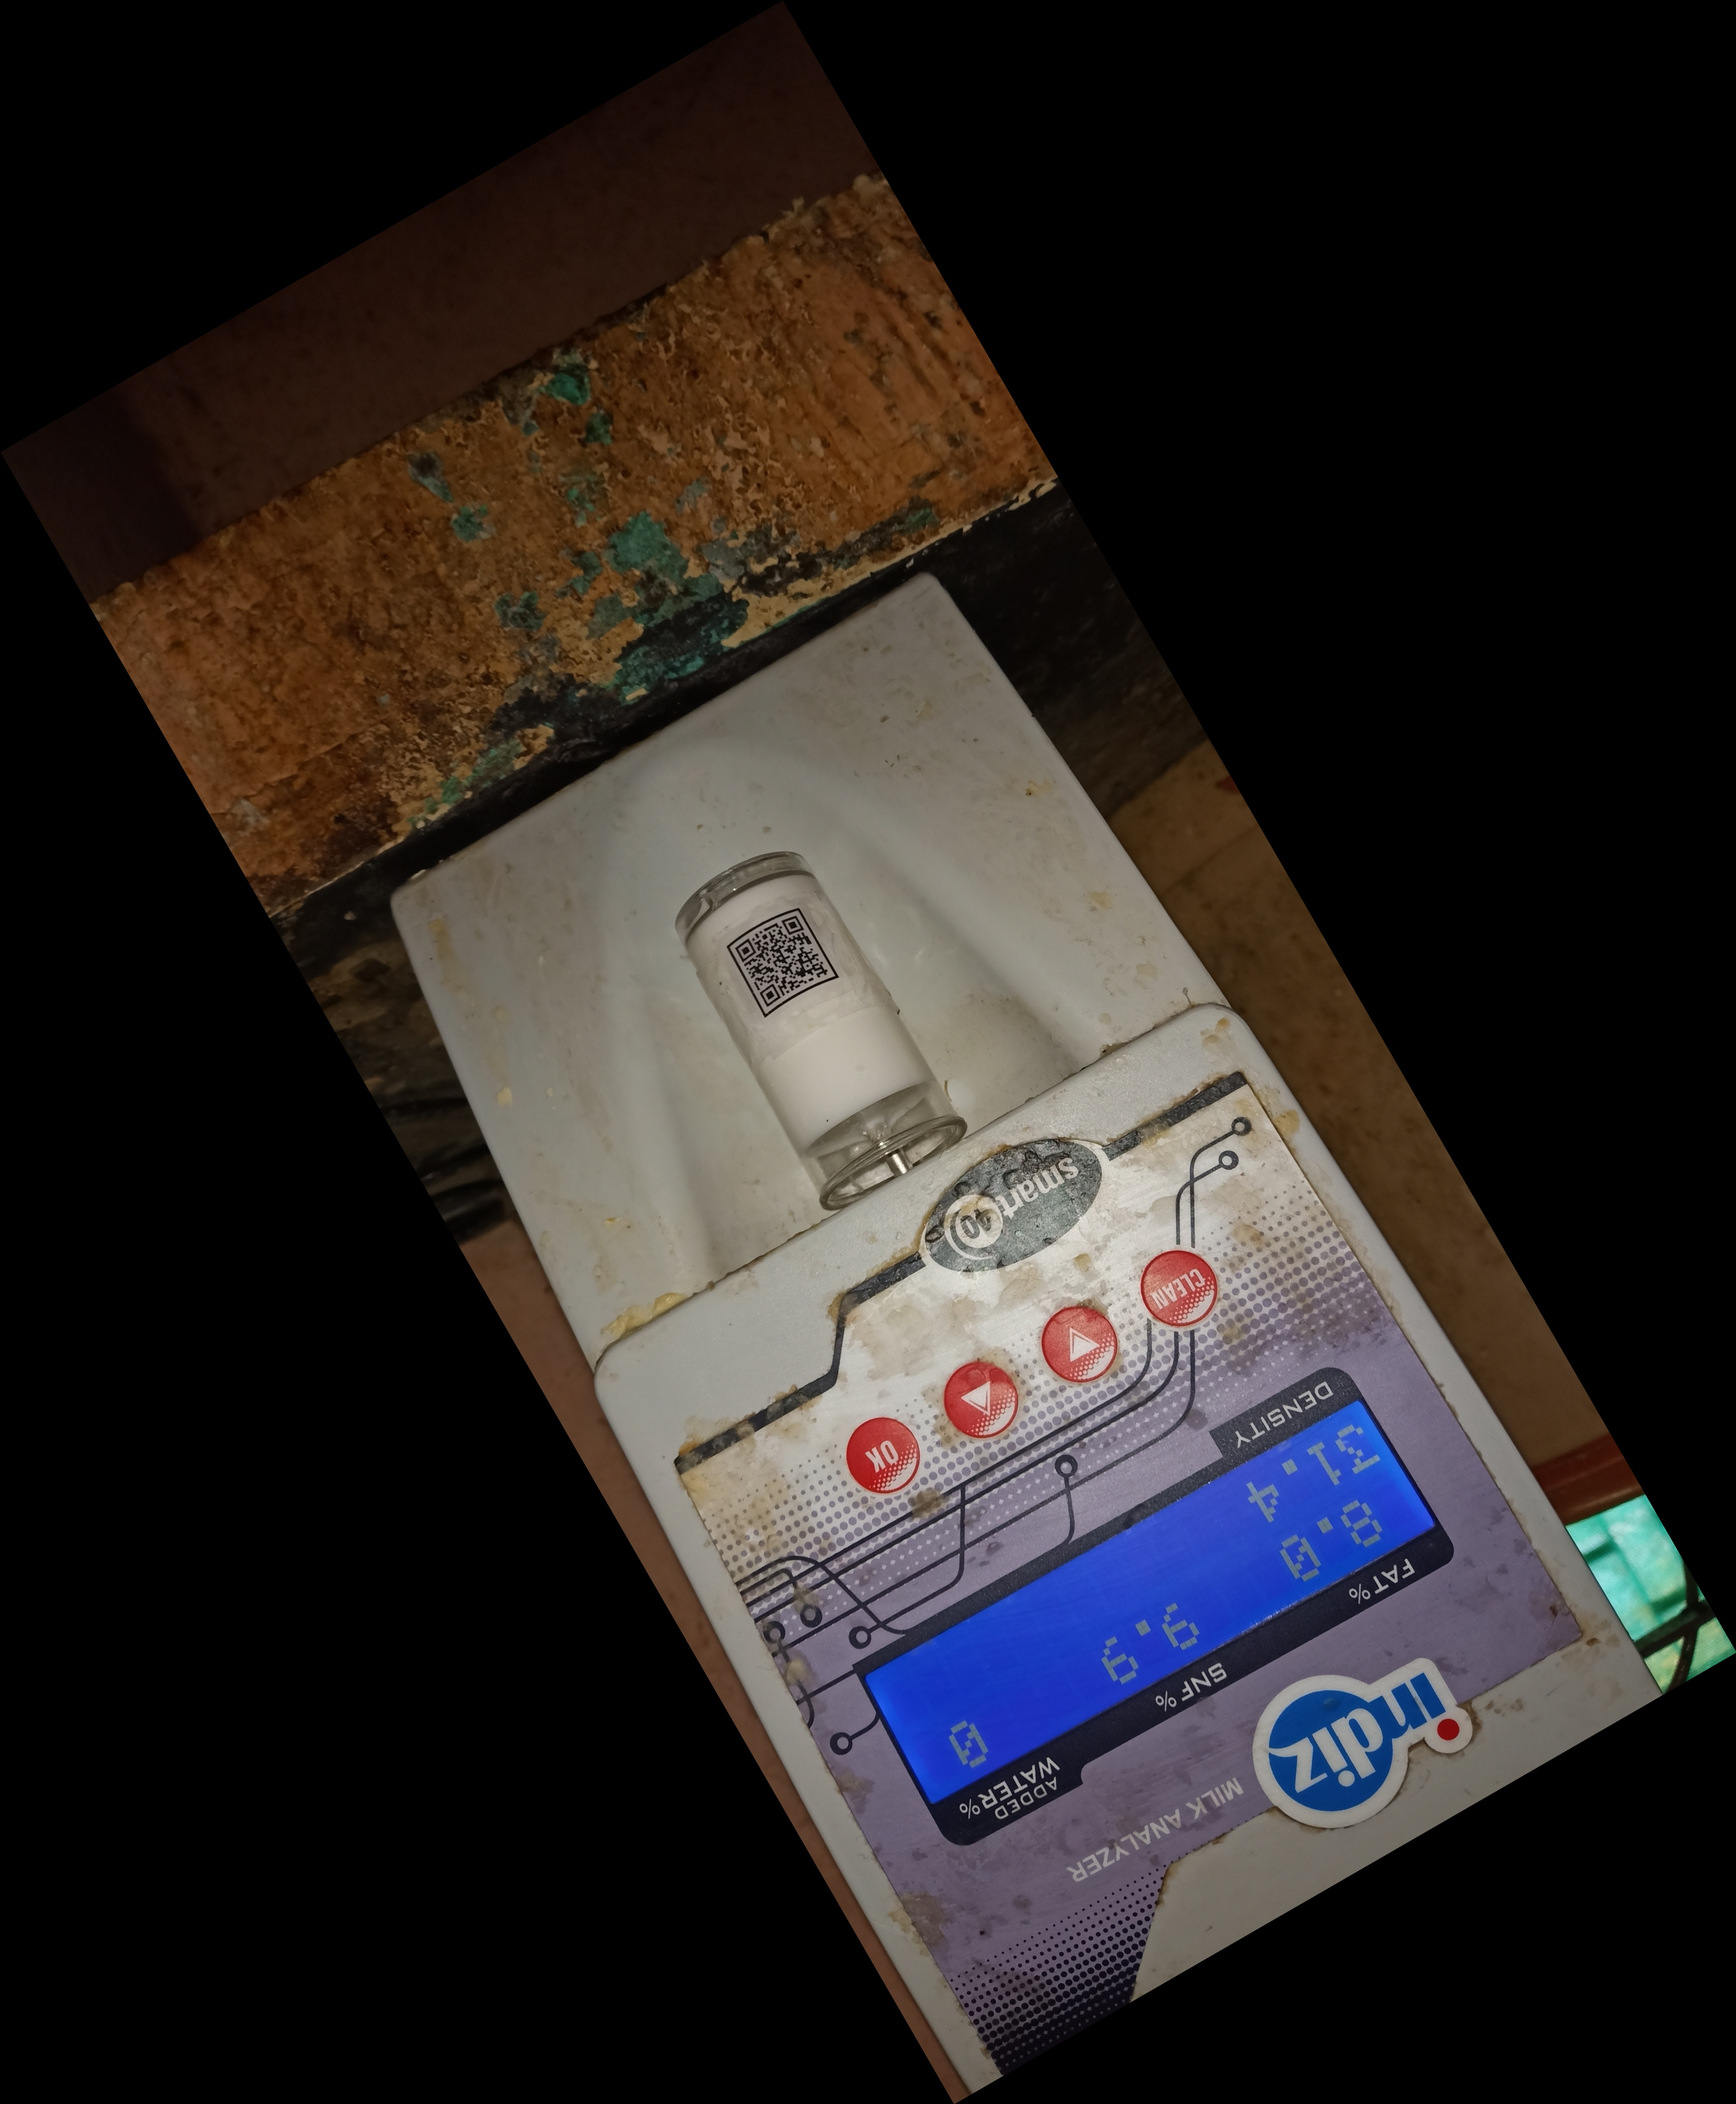lcd: (828, 1319, 1500, 1859)
qr: (711, 888, 866, 1038)
